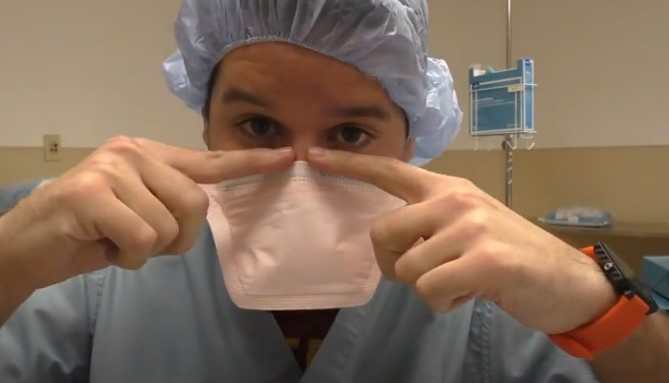face_with_mask: (162, 3, 462, 309)
